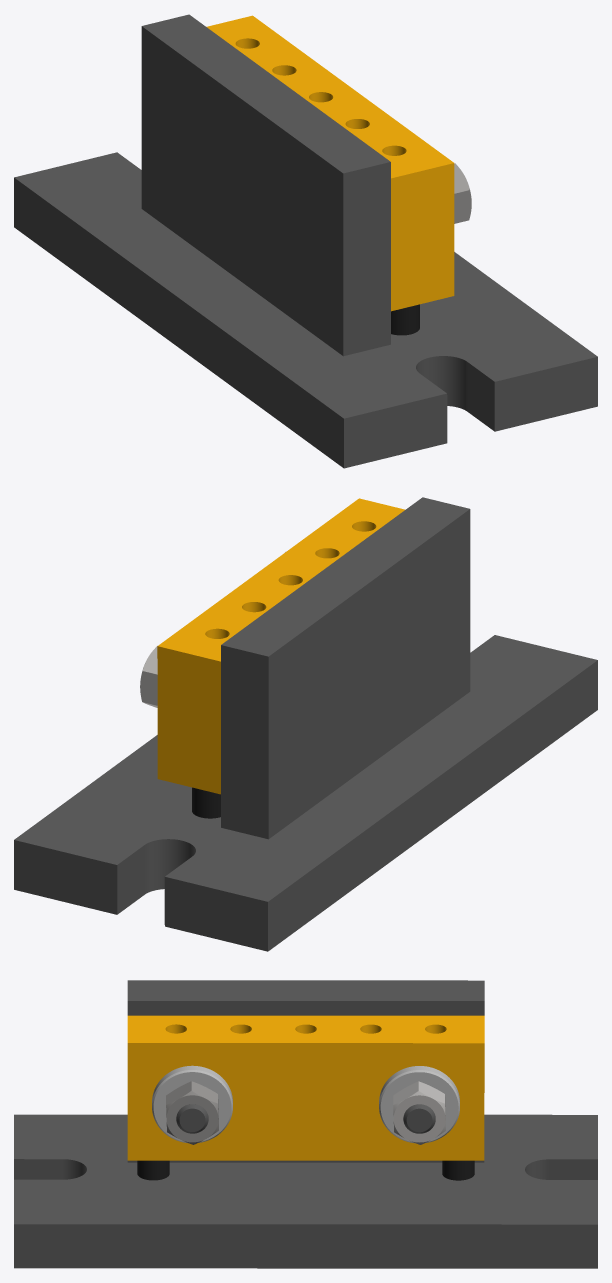
File: 1_com_peca.obj
3 views of the same model, one above another, from view 1: azimuth 30°, elevation 25°; view 2: azimuth 150°, elevation 25°; view 3: azimuth 270°, elevation 25° (orthographic). The views are drawn at different scales.
Visible parts, largest first — view 1: Sólido1, Sólido1:1, Solid1; view 2: Sólido1, Sólido1:1, Solid1:1; view 3: Sólido1, Sólido1:1, Sólido1:3, Sólido1:2, Solid1:1, Solid1.
Part boxes in pixels (bbox=[...]): Sólido1: bbox=[14, 14, 597, 468]; Sólido1:1: bbox=[207, 15, 454, 311]; Solid1: bbox=[454, 163, 471, 223]; Sólido1: bbox=[14, 497, 597, 951]; Sólido1:1: bbox=[157, 498, 404, 794]; Solid1:1: bbox=[140, 645, 157, 707]; Sólido1: bbox=[14, 980, 597, 1268]; Sólido1:1: bbox=[127, 1015, 484, 1160]; Sólido1:3: bbox=[379, 1066, 459, 1143]; Sólido1:2: bbox=[152, 1065, 232, 1142]; Solid1:1: bbox=[393, 1081, 445, 1144]; Solid1: bbox=[166, 1081, 218, 1144].
Bounding box in the file's own units: 1.19 × 1.04 × 2.67.
